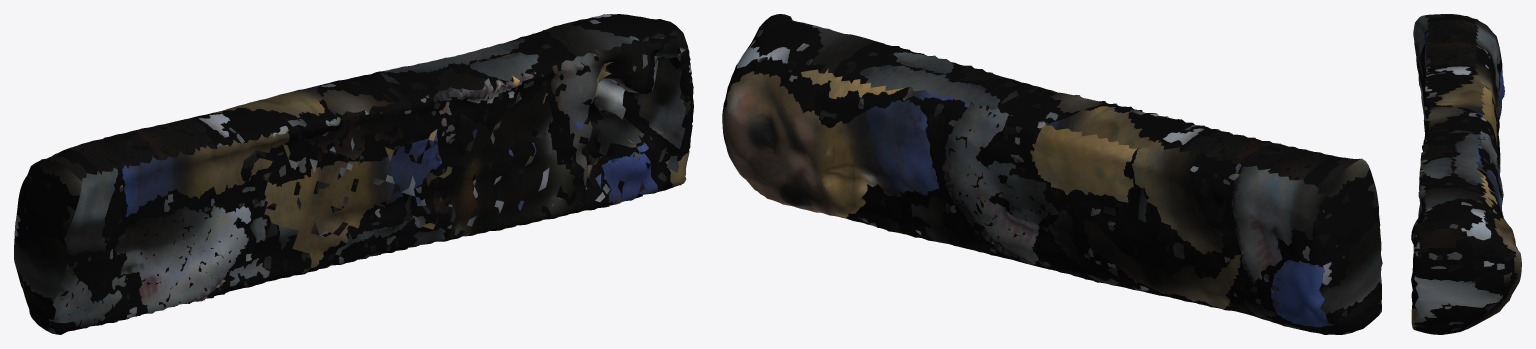
The model's file is final_mesh_remote-silver.obj.
3 views of the same model, side by side, from view 1: azimuth 30°, elevation 25°; view 2: azimuth 150°, elevation 25°; view 3: azimuth 270°, elevation 25° (orthographic). The views are drawn at different scales.
Bounding box in the file's own units: 0.2598 × 0.0651 × 0.0541.
